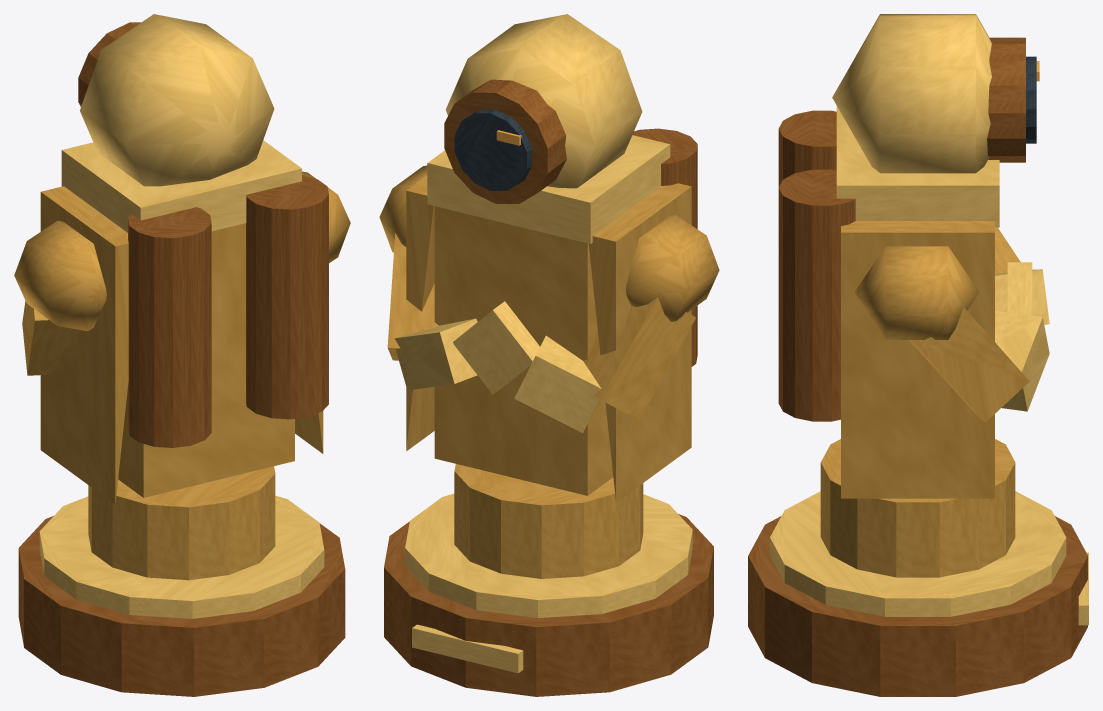
File: Estatua_De_Oro.fbx
The picture shows the model from 3 angles, left to right: view 1: azimuth 30°, elevation 25°; view 2: azimuth 150°, elevation 25°; view 3: azimuth 270°, elevation 25°; orthographic projection. The views are drawn at different scales.
Visible parts, largest first — view 1: Estatua_De_Oro; view 2: Estatua_De_Oro; view 3: Estatua_De_Oro.
Boxes of the visible parts, bbox=[...] form: Estatua_De_Oro: bbox=[14, 14, 350, 696]; Estatua_De_Oro: bbox=[379, 14, 719, 696]; Estatua_De_Oro: bbox=[748, 14, 1088, 696].
Size of the model in its own units: 1.52 by 1.42 by 2.8.
Materials: 1 (1 with a texture image).
